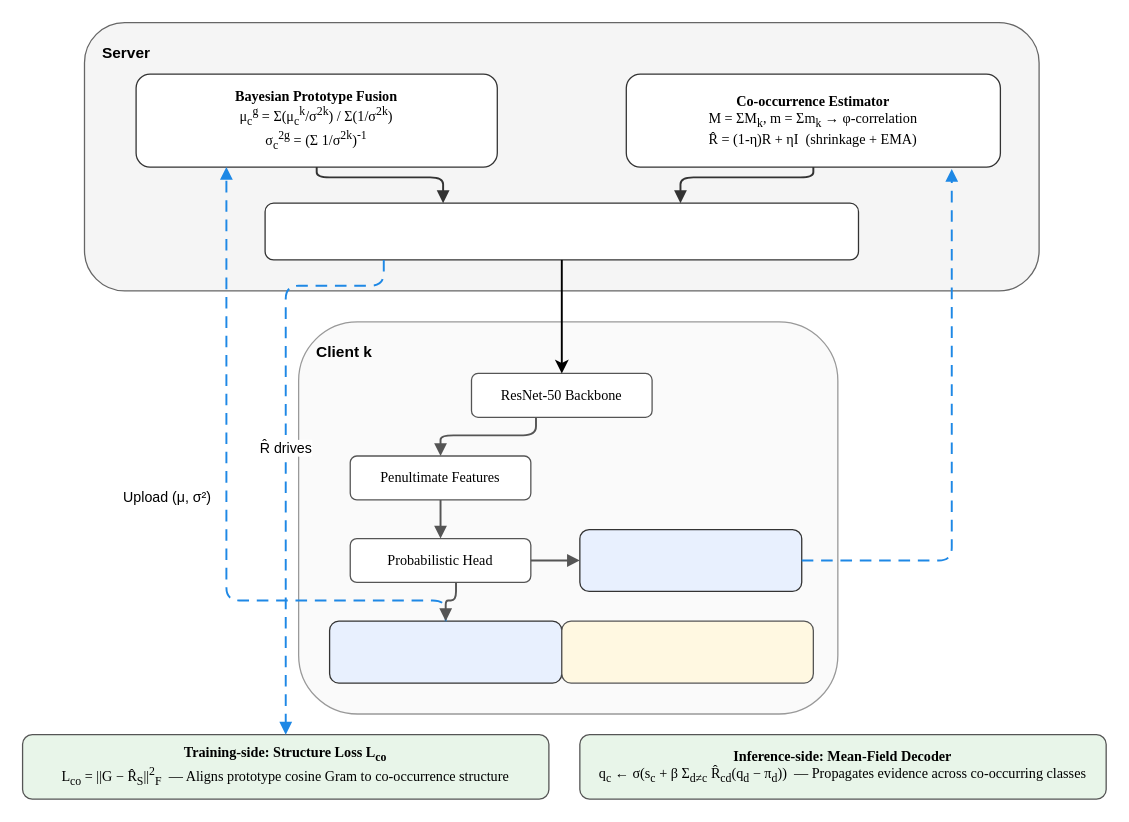
Image size: 1129x822. Some labels were removed from this diagram. The centre of each missing label's shape, as x and y in pixels:
"Distributional Prototypes {(μ c k , σ c 2k )}" belongs at (445,651).
"Global State: {(μ c g , σ c 2g )}, R̂, π" belongs at (561,231).
"L = L CE + λL proto + λ co L co + λ ent L ent" belongs at (687,651).
"Label Sufficient Statistics (m k , M k , n k )" belongs at (690,559).
